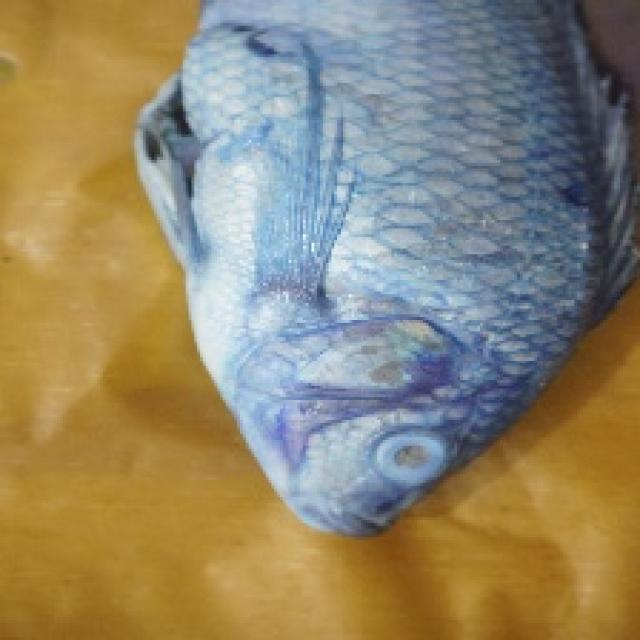Non-Fresh: (175, 4, 617, 429), (362, 410, 479, 501)
